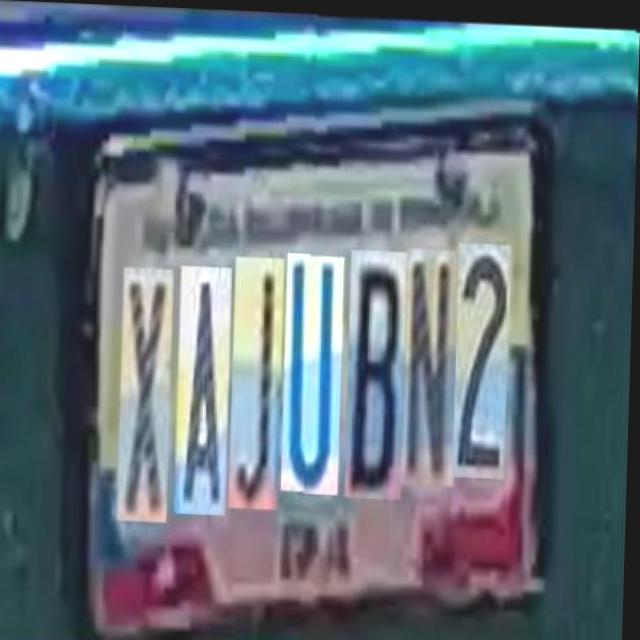2: (455, 237, 513, 472)
a: (176, 264, 234, 513)
b: (347, 245, 409, 494)
j: (232, 255, 286, 508)
n: (402, 243, 461, 480)
u: (284, 251, 346, 490)
x: (120, 266, 176, 521)
